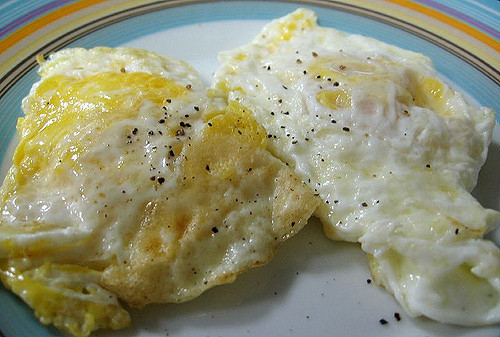fried egg: (238, 35, 484, 305), (23, 59, 253, 283)
